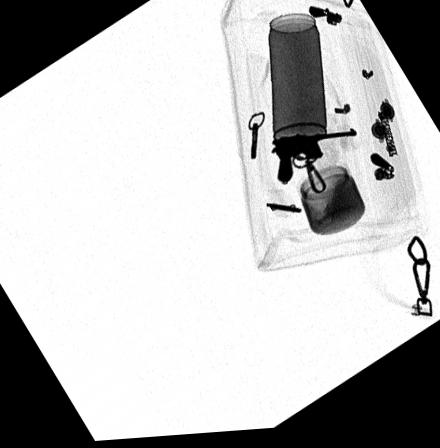Gun: (269, 131, 355, 188)
